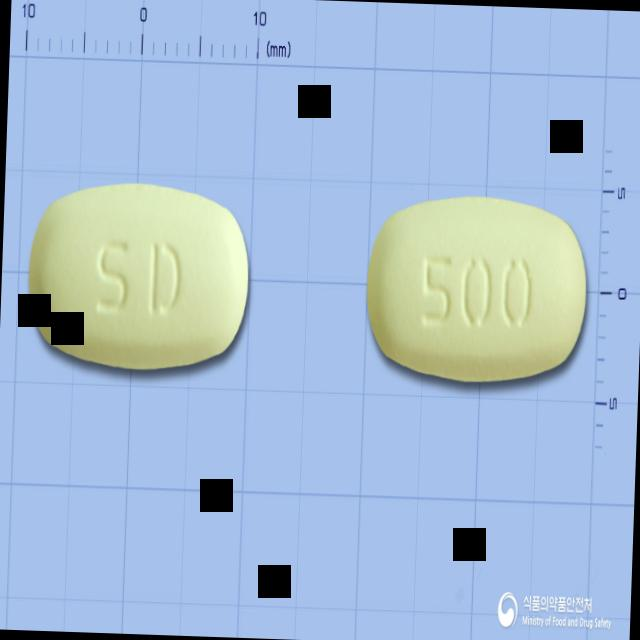Clabio: (22, 172, 257, 386), (359, 185, 593, 394)
